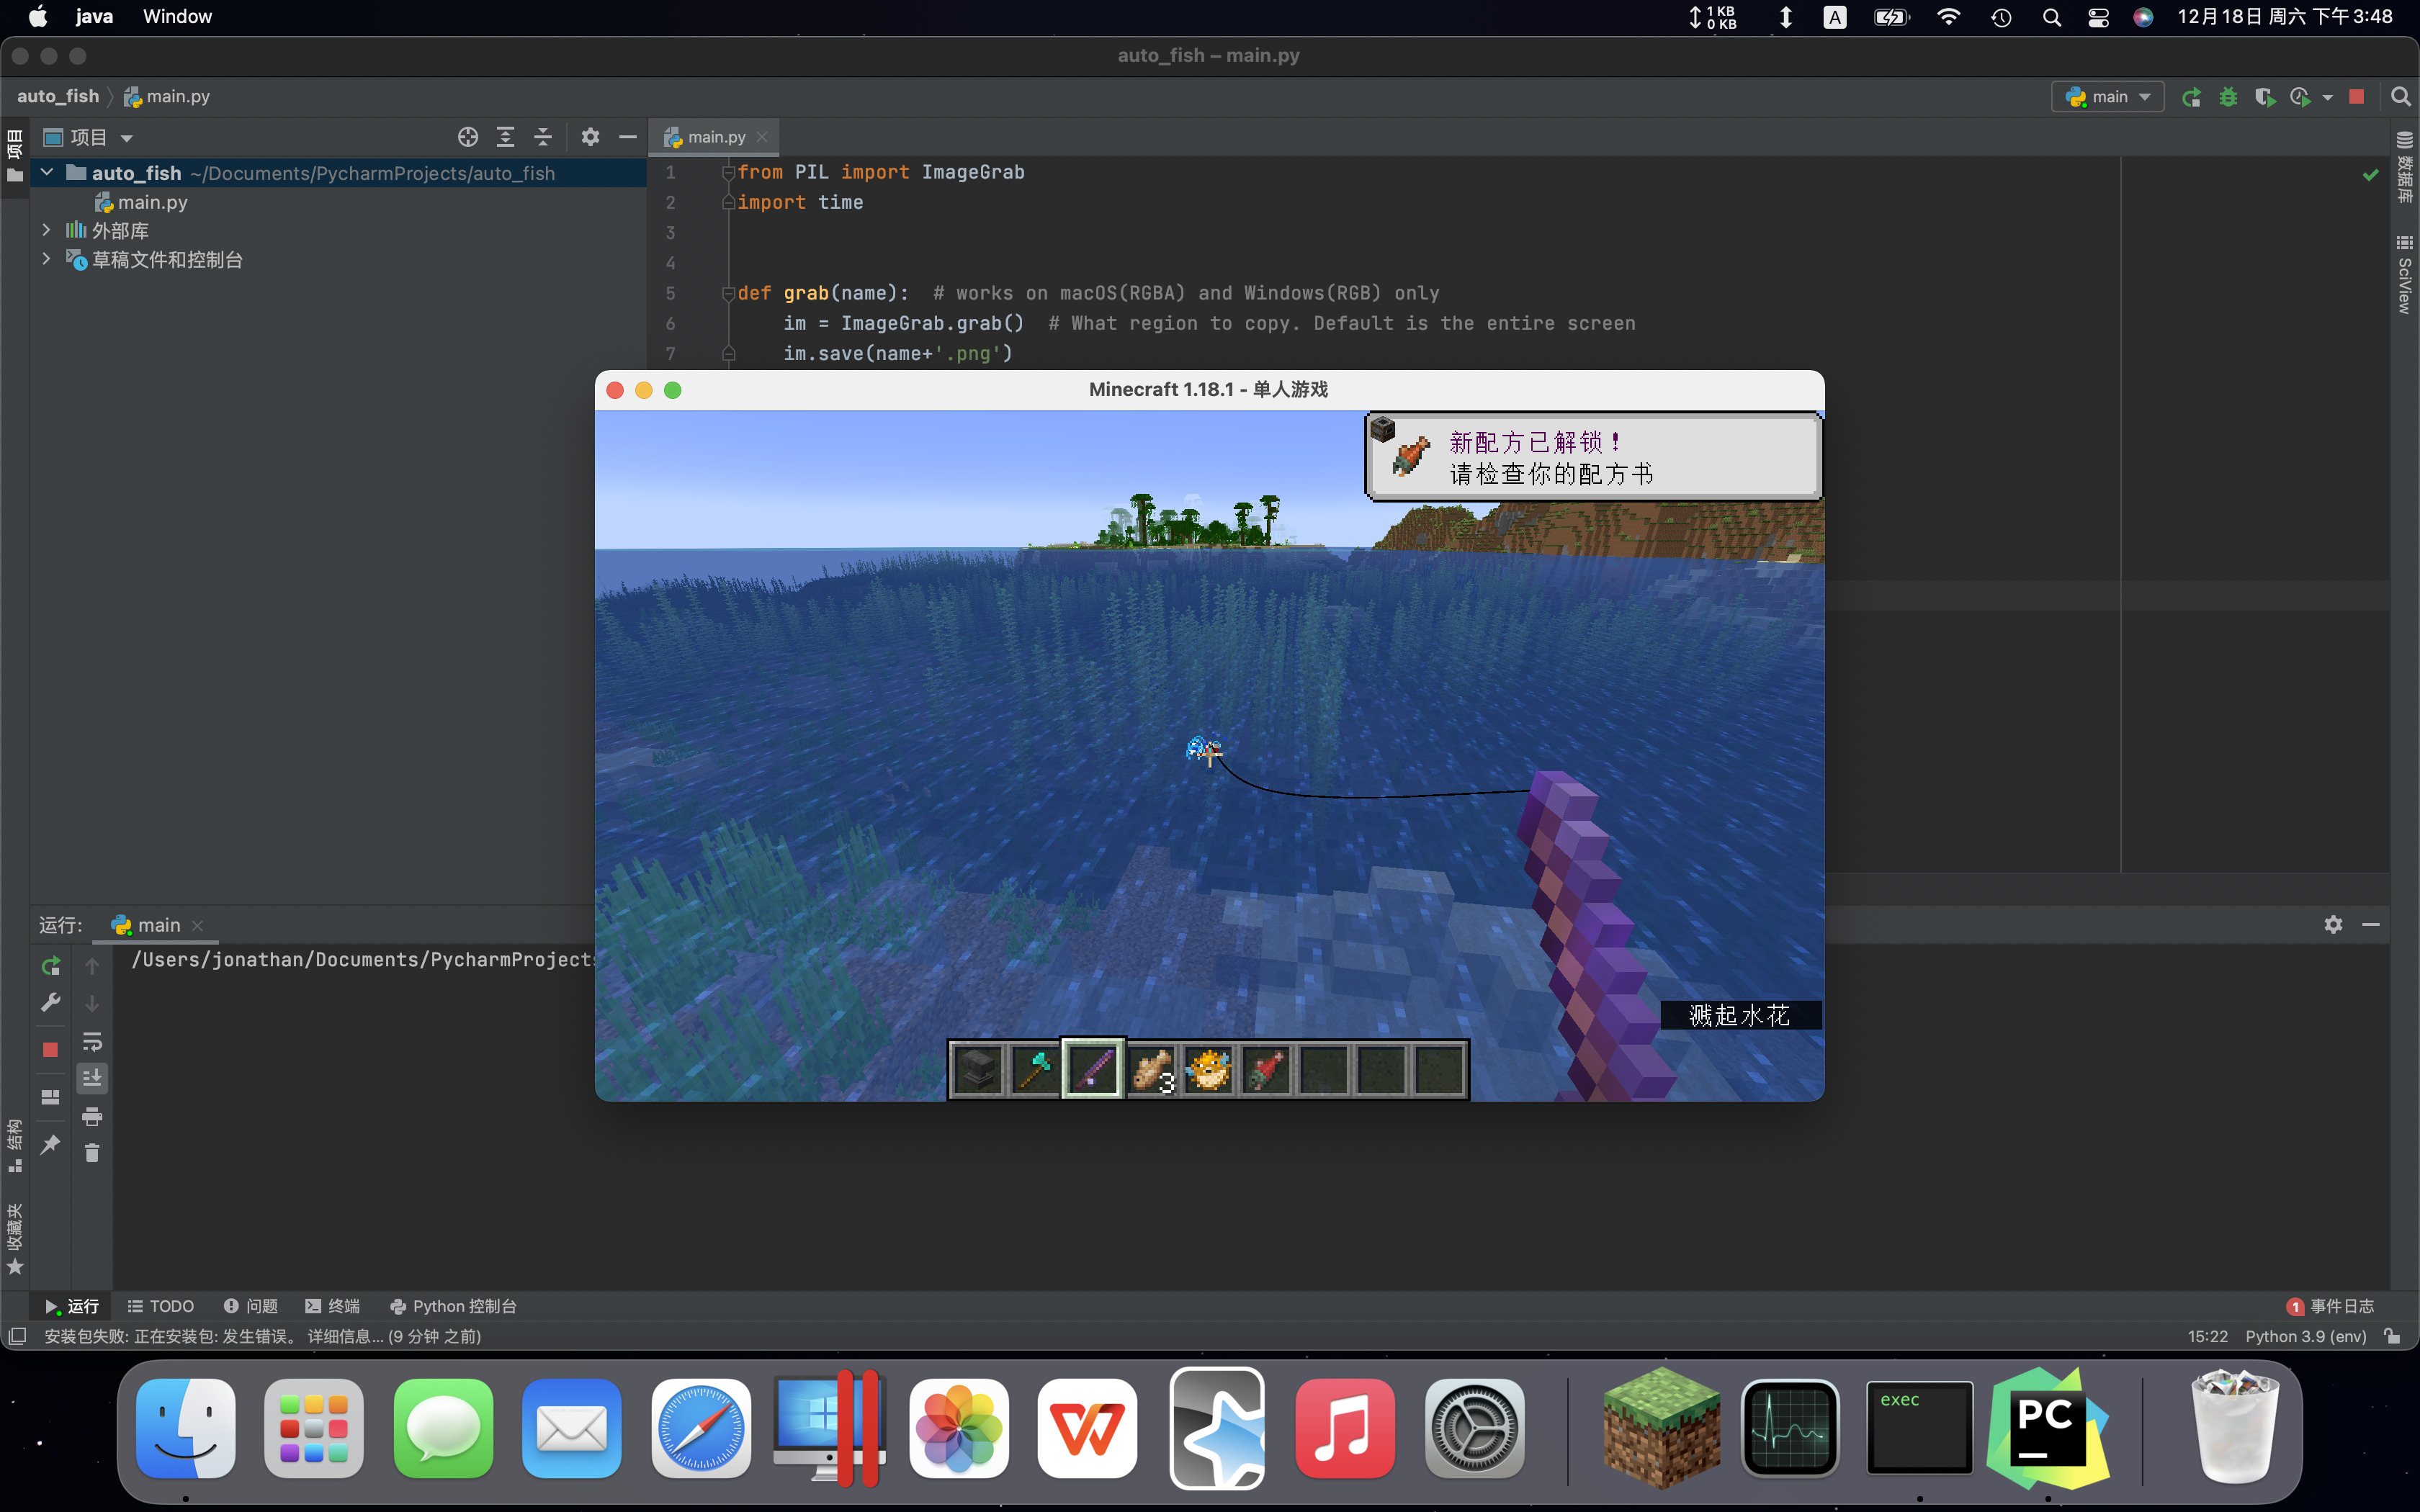inf: (1660, 1000, 1821, 1029)
